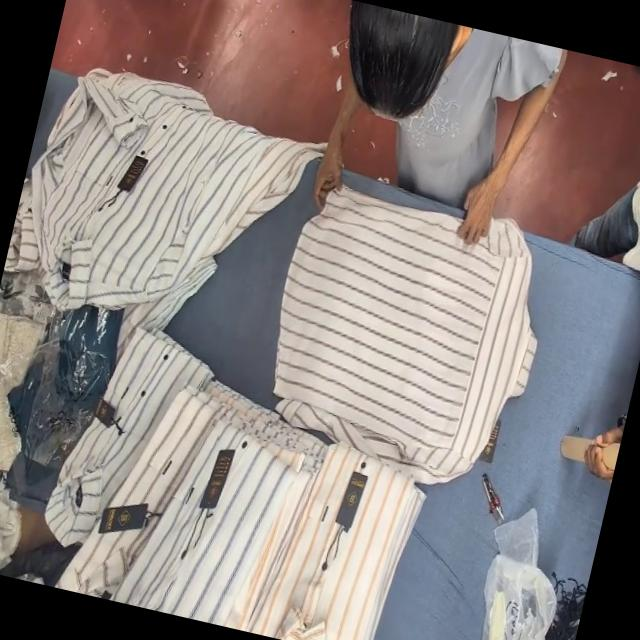new-garment: (274, 189, 536, 482)
